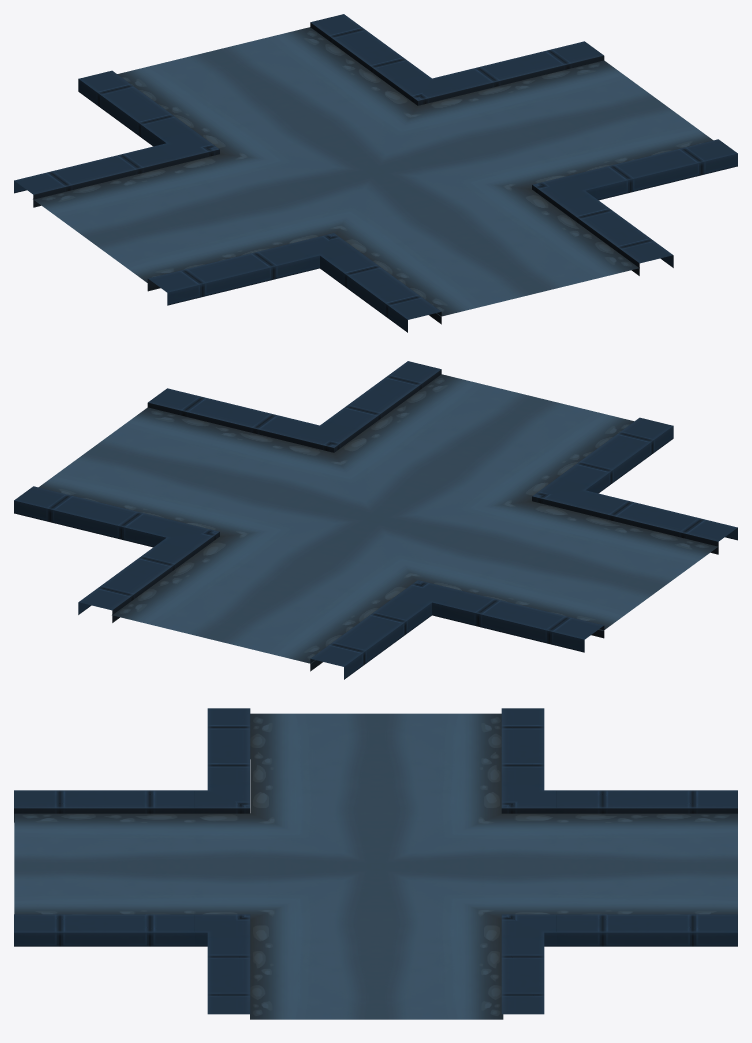
Rendered from RoadPiece_05.FBX.
The picture shows the model from 3 angles, top to bottom: view 1: azimuth 30°, elevation 25°; view 2: azimuth 150°, elevation 25°; view 3: azimuth 270°, elevation 25°; orthographic projection. The views are drawn at different scales.
Parts seen in each view (by area): view 1: RoadPiece_05; view 2: RoadPiece_05; view 3: RoadPiece_05.
Part boxes in pixels (x1=…): RoadPiece_05: x1=14, y1=14, x2=737, y2=332; RoadPiece_05: x1=14, y1=361, x2=737, y2=679; RoadPiece_05: x1=14, y1=708, x2=737, y2=1019.
Size of the model in its own units: 351 by 7.61 by 351.
